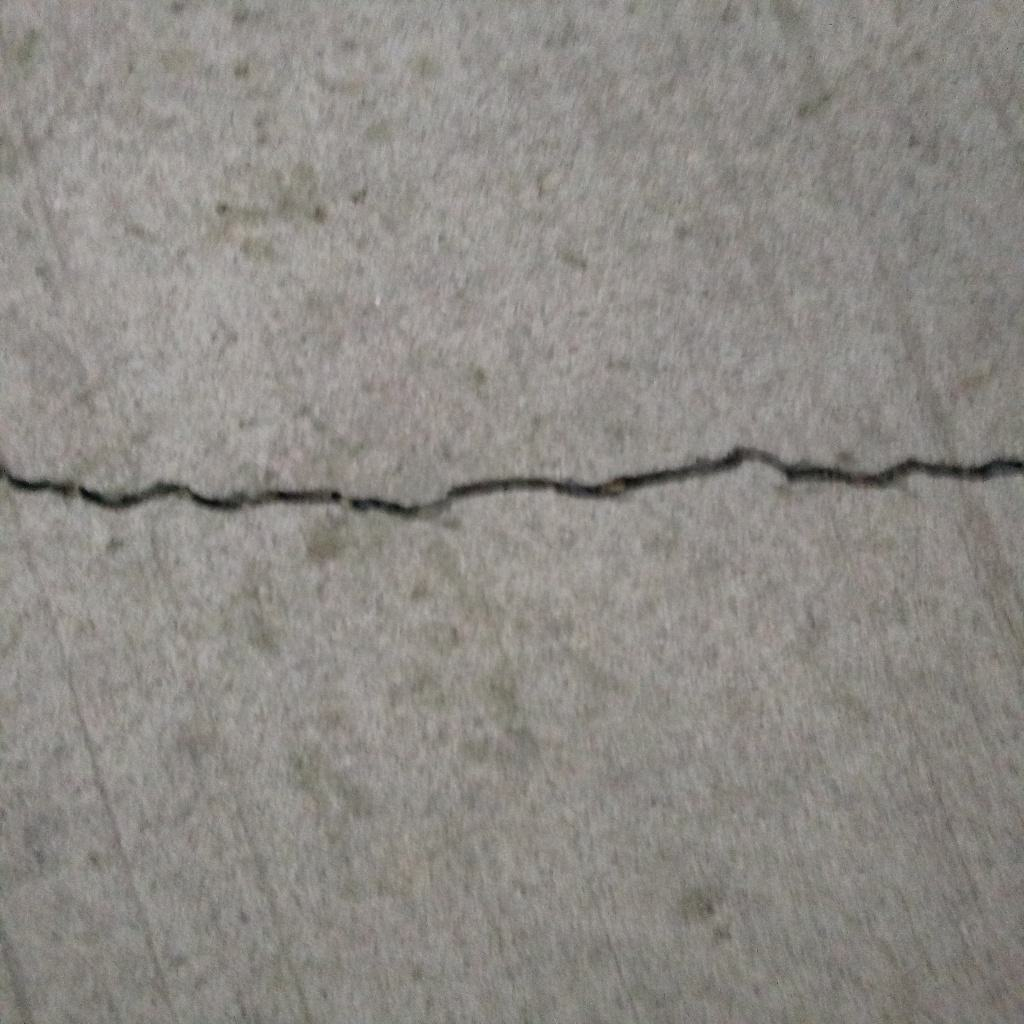Crack: (1, 443, 1024, 522)
